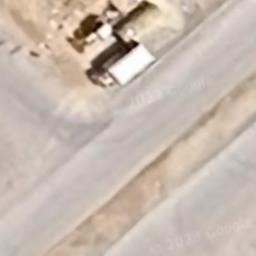truck: (90, 44, 156, 90)
